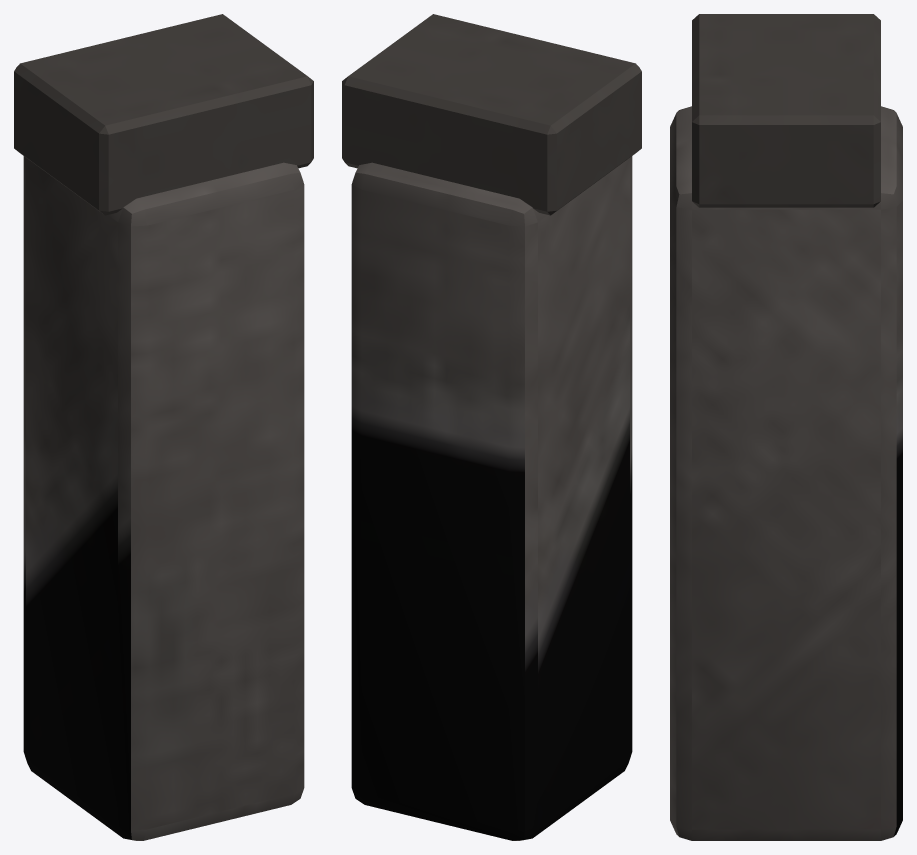
The model's file is fence_post.glb.
3 renders of one model, left to right at view 1: azimuth 30°, elevation 25°; view 2: azimuth 150°, elevation 25°; view 3: azimuth 270°, elevation 25°, orthographic. The views are drawn at different scales.
Parts seen in each view (by area): view 1: fence_post; view 2: fence_post; view 3: fence_post.
Boxes of the visible parts, x1,y1,x2,y2 form: fence_post: (14,14,313,840); fence_post: (342,14,641,840); fence_post: (670,14,902,840).
Size of the model in its own units: 0.035 by 0.112 by 0.032.
Materials: 1 (1 with a texture image).
